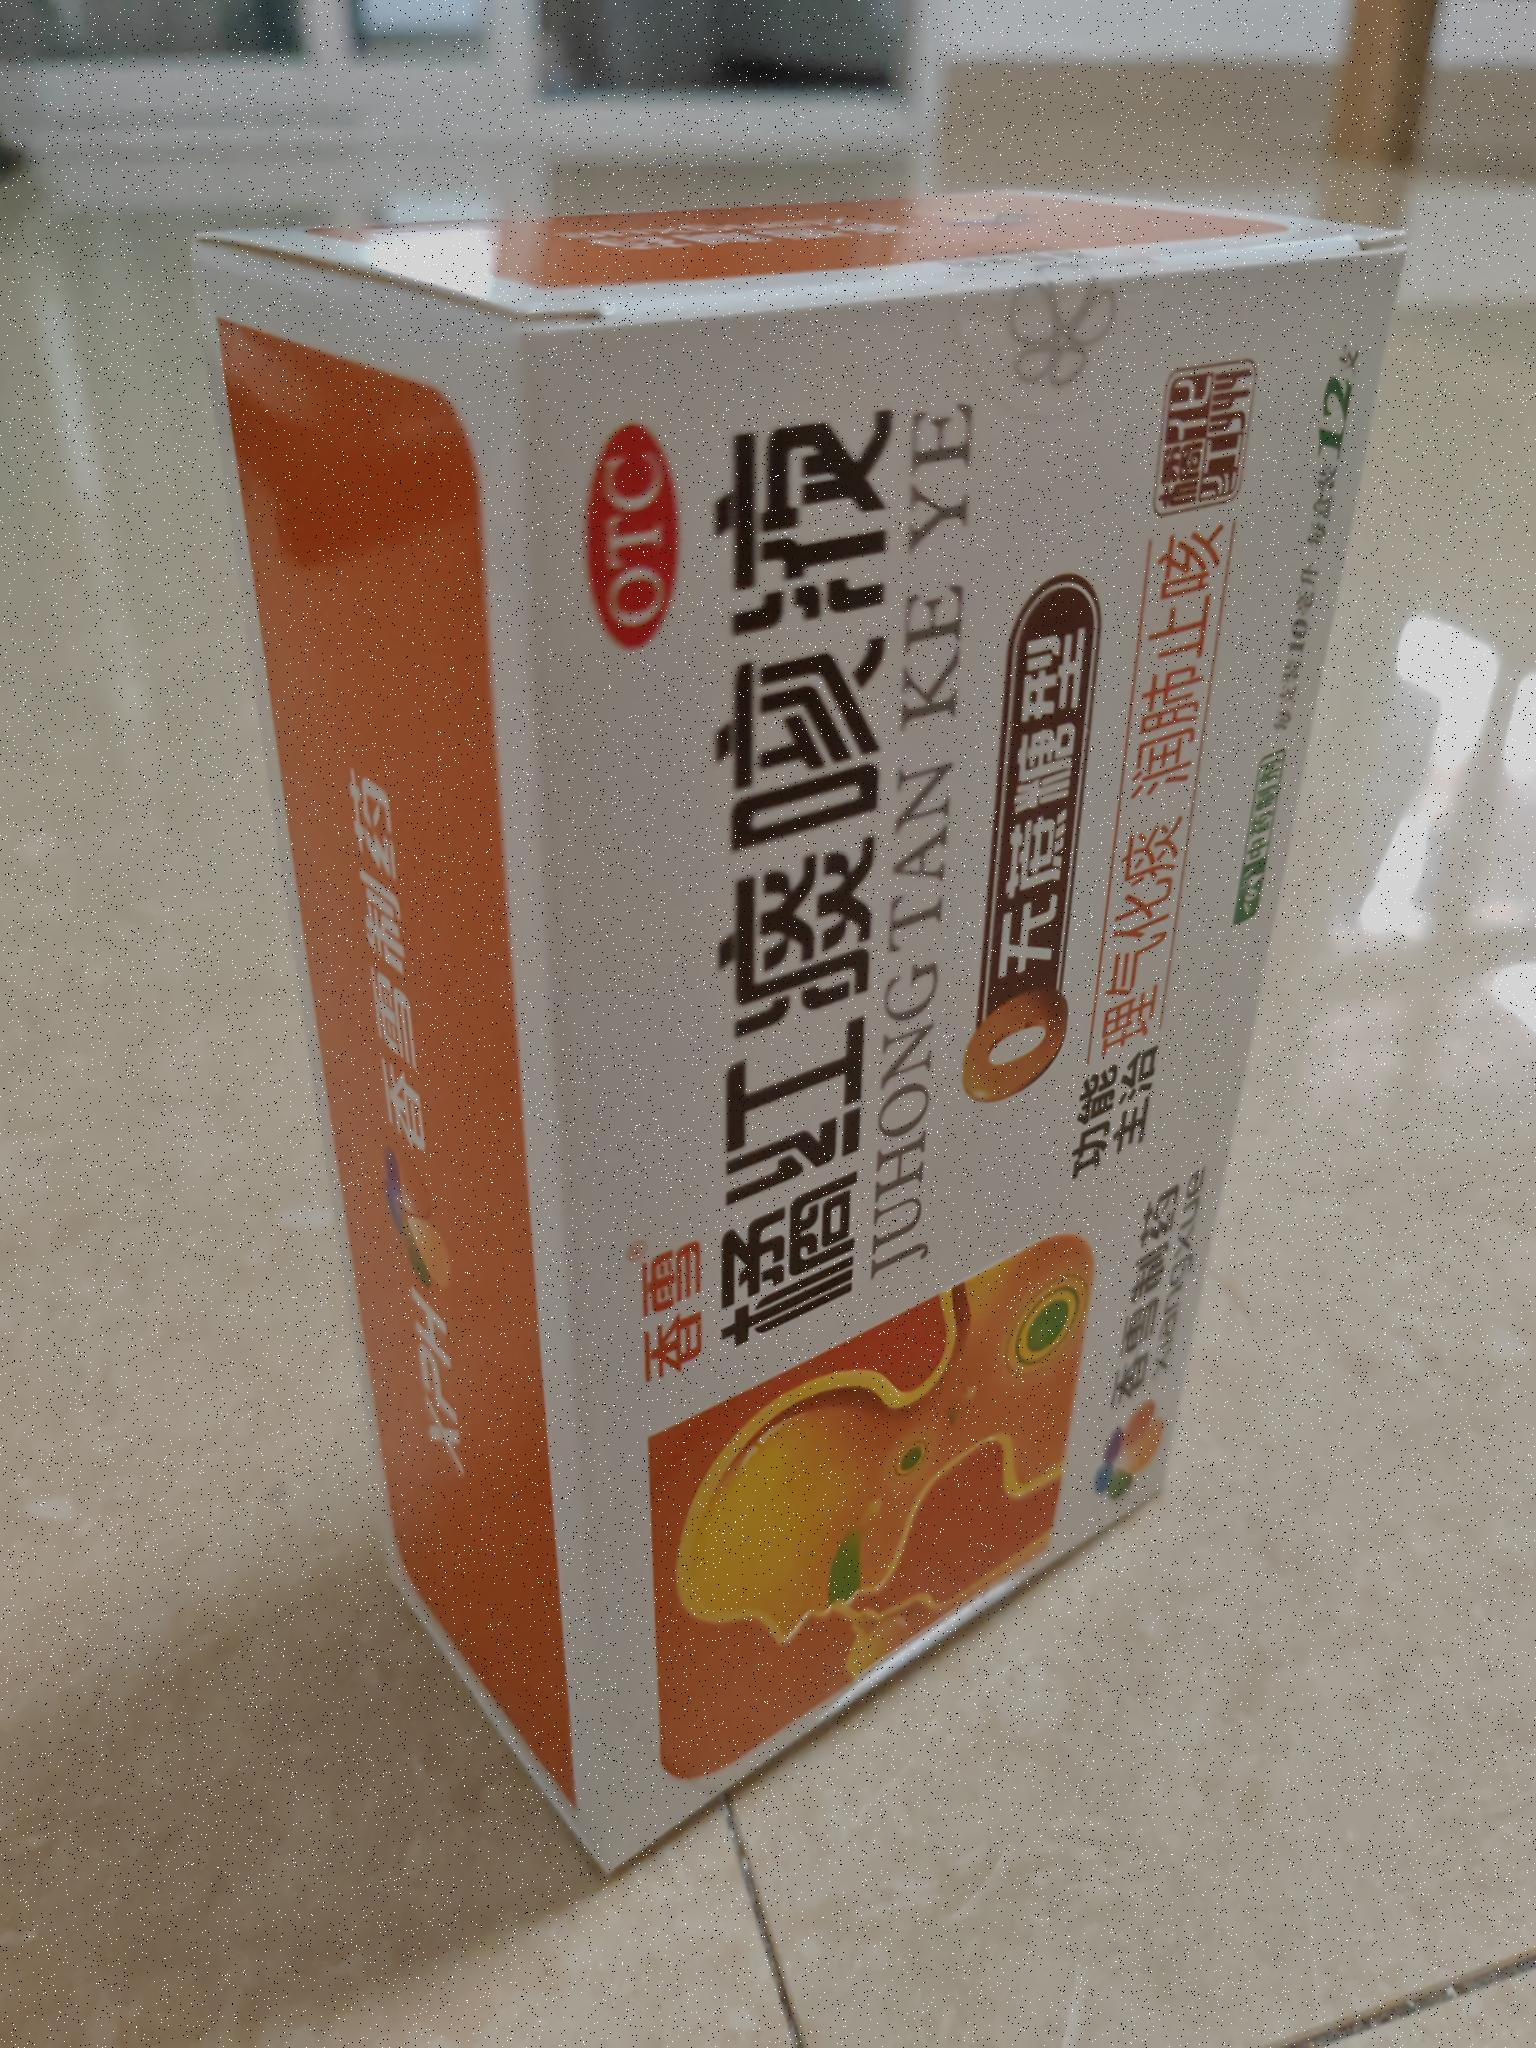Medicine1: (158, 161, 1430, 1898)
